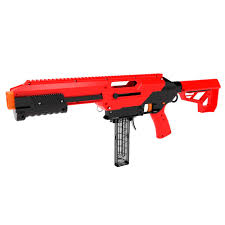Arma Falsa: (2, 71, 225, 169)
